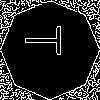T: (25, 25, 70, 56)
